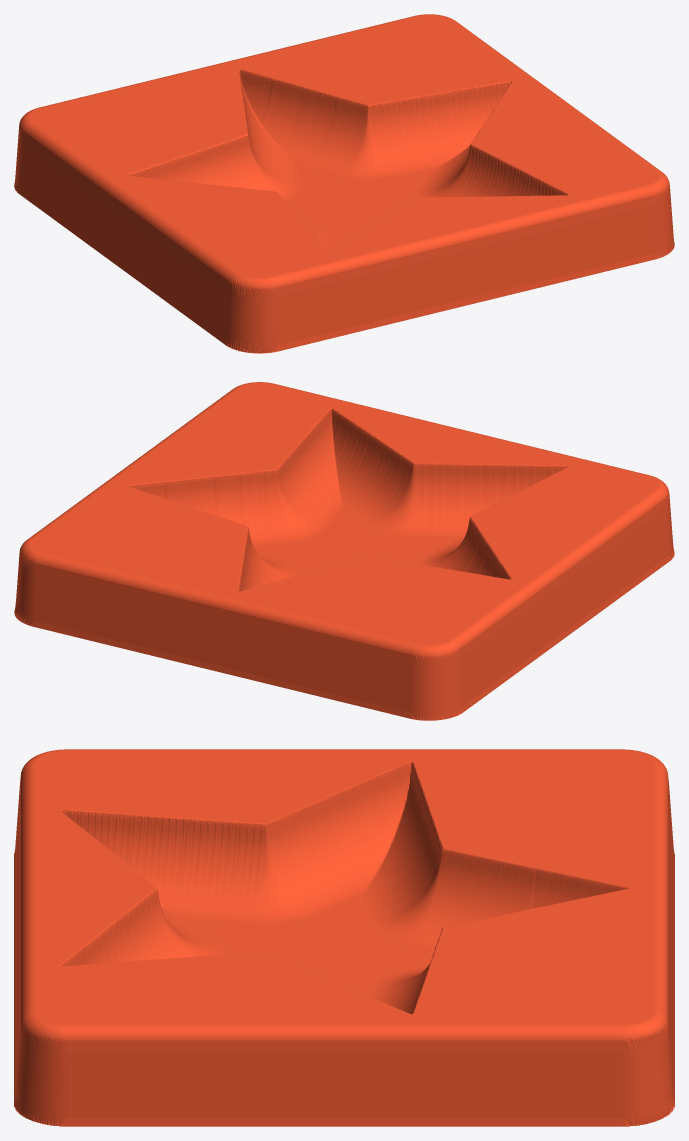
File: mold.glb
3 views of the same model, one above another, from view 1: azimuth 30°, elevation 25°; view 2: azimuth 150°, elevation 25°; view 3: azimuth 270°, elevation 25° (orthographic). The views are drawn at different scales.
Visible parts, largest first — view 1: geometry_0; view 2: geometry_0; view 3: geometry_0.
Boxes of the visible parts, x1,y1,x2,y2 form: geometry_0: (14,14,674,353); geometry_0: (14,382,674,720); geometry_0: (14,749,674,1126).
Bounding box in the file's own units: 0.1178 × 0.0175 × 0.1128.
